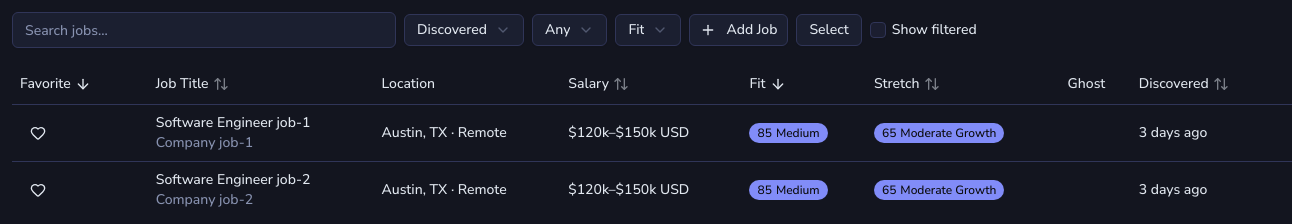
Test case: OpportunitiesTable › multi-select mode › exits select mode after successful bulk dismiss
Expected: the text "Software Engineer job-1" is shown, [156,112,310,132]
Click the button with test id "select-mode-button" at (829, 30), box [796,14,862,46]
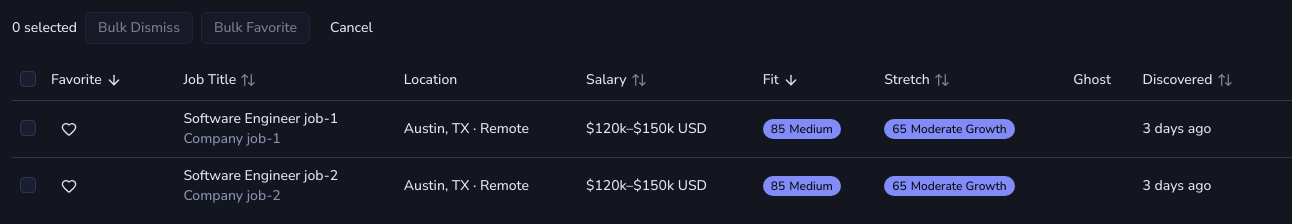
Click the checkbox named "Select row" next to "Software Engineer job-1" at (28, 128), box [20,120,36,136]
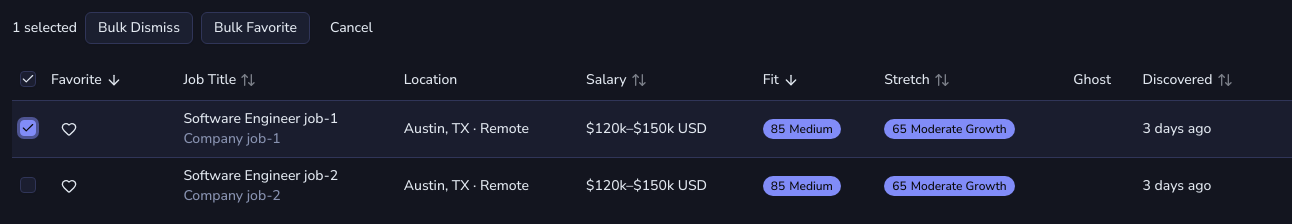
Click the button with test id "bulk-dismiss-button" at (139, 28), box [85,12,193,44]
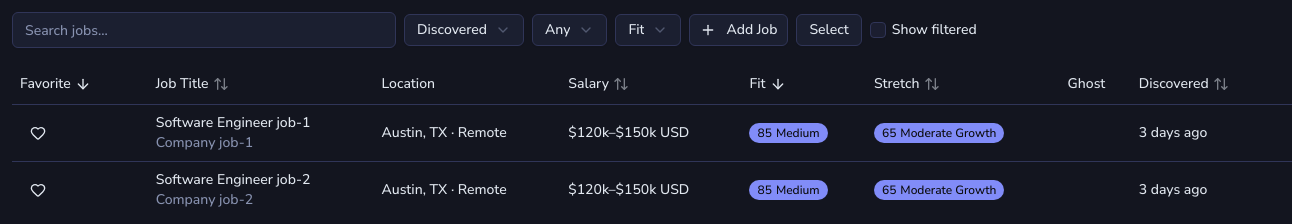
Now the element with test id "selection-action-bar" is gone
